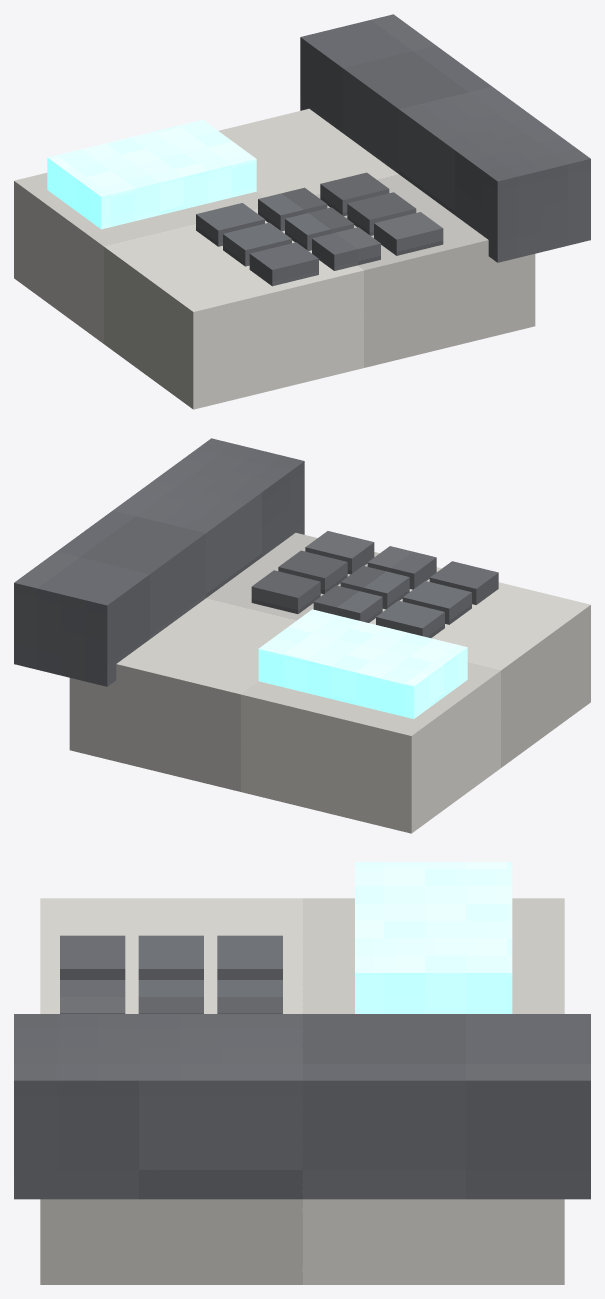
Rendered from pixel-modern-office-desk-phone-d6d9c15b.glb.
3 views of the same model, one above another, from view 1: azimuth 30°, elevation 25°; view 2: azimuth 150°, elevation 25°; view 3: azimuth 270°, elevation 25° (orthographic). The views are drawn at different scales.
Parts seen in each view (by area): view 1: desk-phone; view 2: desk-phone; view 3: desk-phone.
Boxes of the visible parts, left/top/right/bottom form: desk-phone: left=14, top=14, right=590, bottom=409; desk-phone: left=14, top=438, right=590, bottom=833; desk-phone: left=14, top=862, right=590, bottom=1284.
Bounding box in the file's own units: 0.25 × 0.1 × 0.22.
3 materials, 3 textured.
